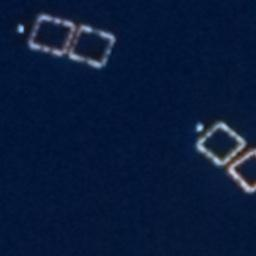square_solid: (189, 114, 249, 173), (25, 10, 82, 63), (65, 21, 118, 72), (224, 143, 256, 197)
